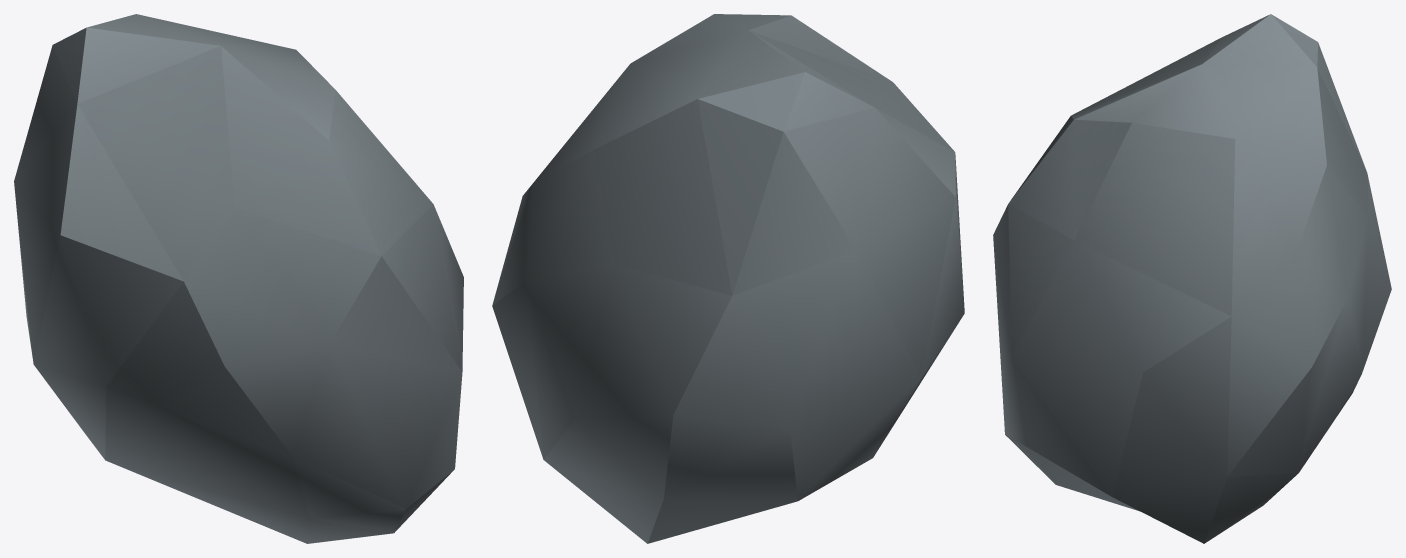
The model's file is Rock_3_B_Color1.fbx.
3 renders of one model, left to right at view 1: azimuth 30°, elevation 25°; view 2: azimuth 150°, elevation 25°; view 3: azimuth 270°, elevation 25°, orthographic. The views are drawn at different scales.
Parts seen in each view (by area): view 1: Rock_3_B_Color1; view 2: Rock_3_B_Color1; view 3: Rock_3_B_Color1.
Part boxes in pixels (left/top/right/bottom): Rock_3_B_Color1: left=14, top=14, right=463, bottom=543; Rock_3_B_Color1: left=492, top=14, right=964, bottom=543; Rock_3_B_Color1: left=993, top=14, right=1391, bottom=543.
Bounding box in the file's own units: 0.8192 × 1.03 × 0.8468.
